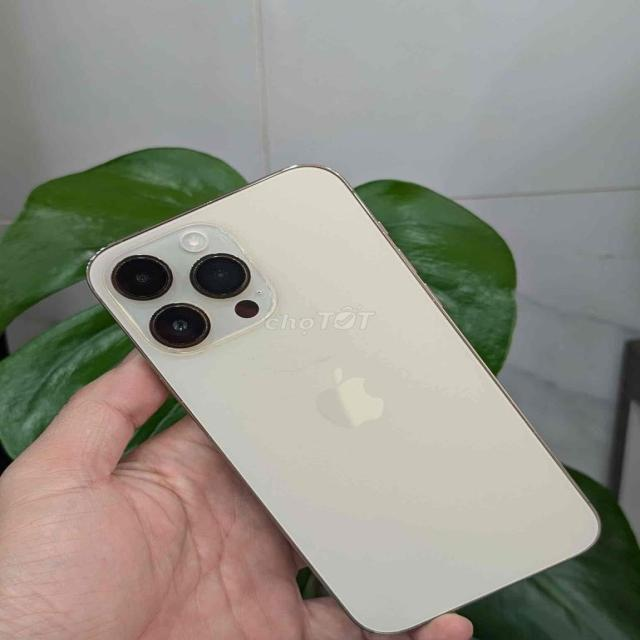physical_damage: (267, 280, 286, 315), (218, 222, 240, 245), (162, 344, 182, 354)
